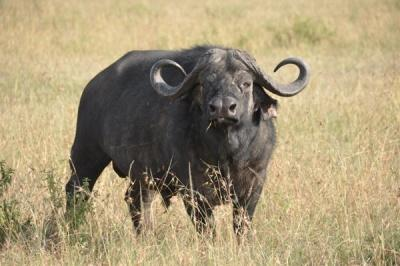buffalo: (65, 46, 309, 238)
